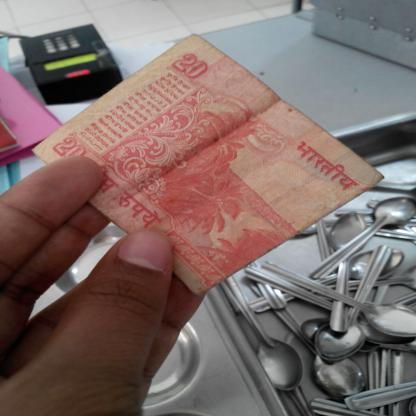Old20Back: (45, 49, 344, 284)
